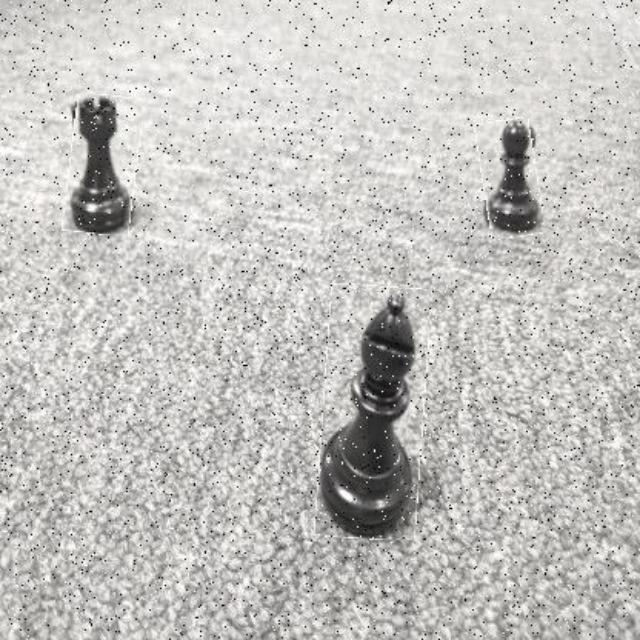black-bishop: (318, 284, 427, 539)
black-pawn: (478, 118, 541, 238)
black-rook: (65, 94, 138, 235)
